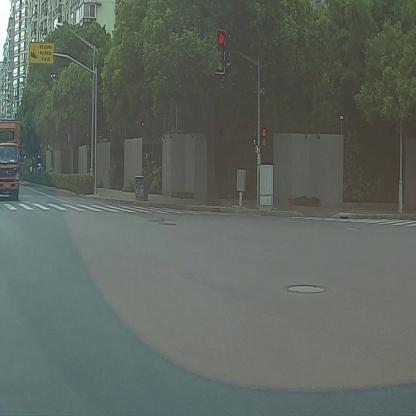Red Light: (216, 28, 226, 74)
